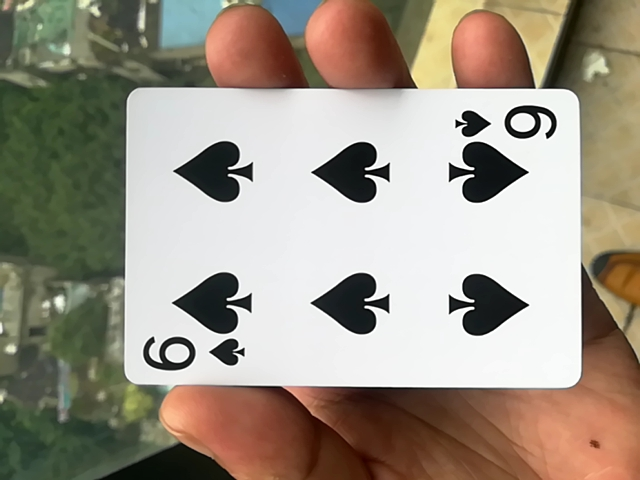ht 6: (111, 91, 576, 396)
